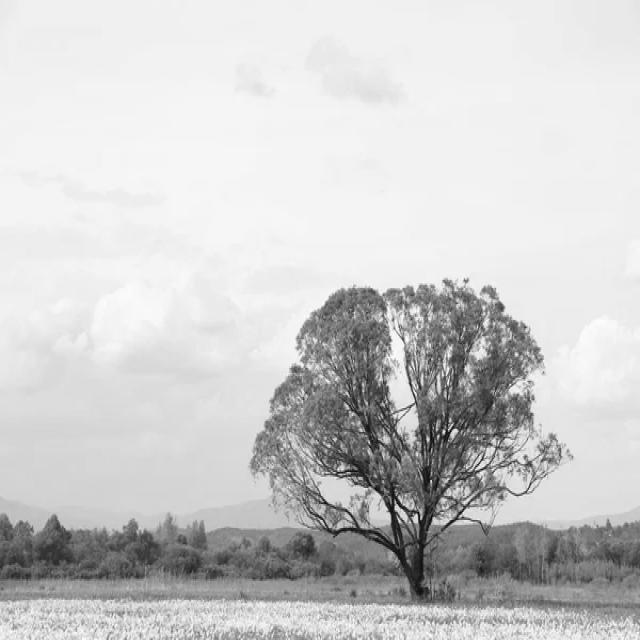Tree: (250, 280, 570, 599)
